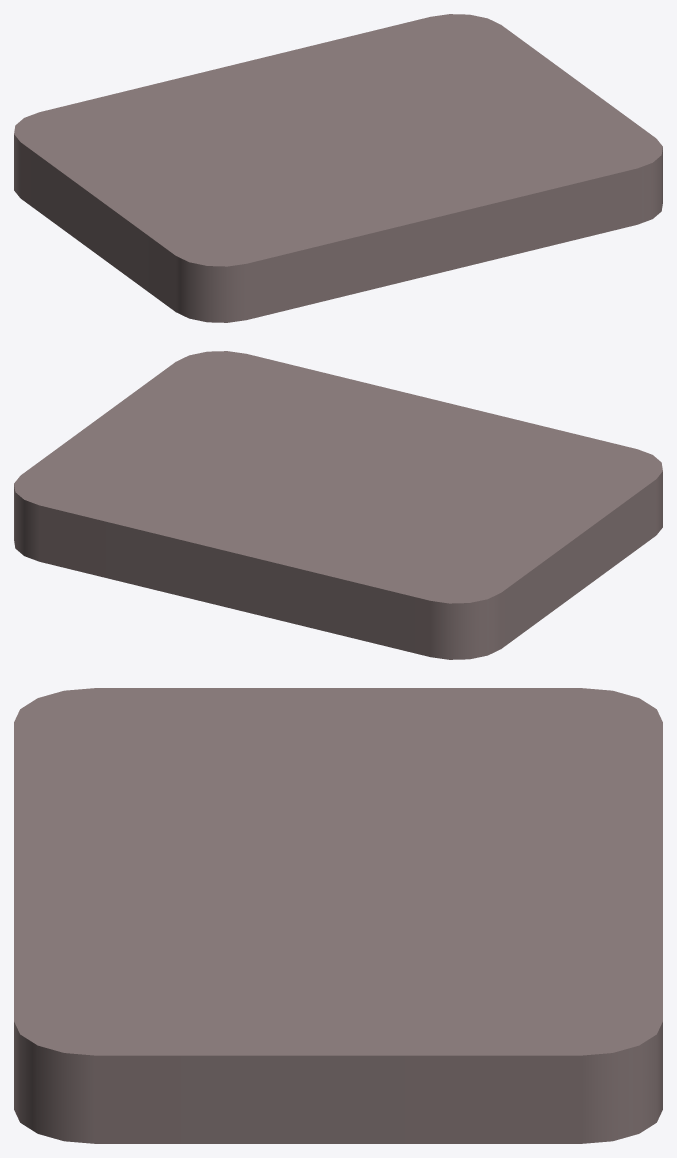
The model's file is ContArea.fbx.
3 views of the same model, one above another, from view 1: azimuth 30°, elevation 25°; view 2: azimuth 150°, elevation 25°; view 3: azimuth 270°, elevation 25° (orthographic). The views are drawn at different scales.
Parts seen in each view (by area): view 1: ContArea; view 2: ContArea; view 3: ContArea.
Boxes of the visible parts, box(x1,y1,x2,y2) form: ContArea: box(14, 14, 662, 322); ContArea: box(14, 351, 662, 659); ContArea: box(14, 688, 662, 1143).
Bounding box in the file's own units: 358 × 40.08 × 267.
